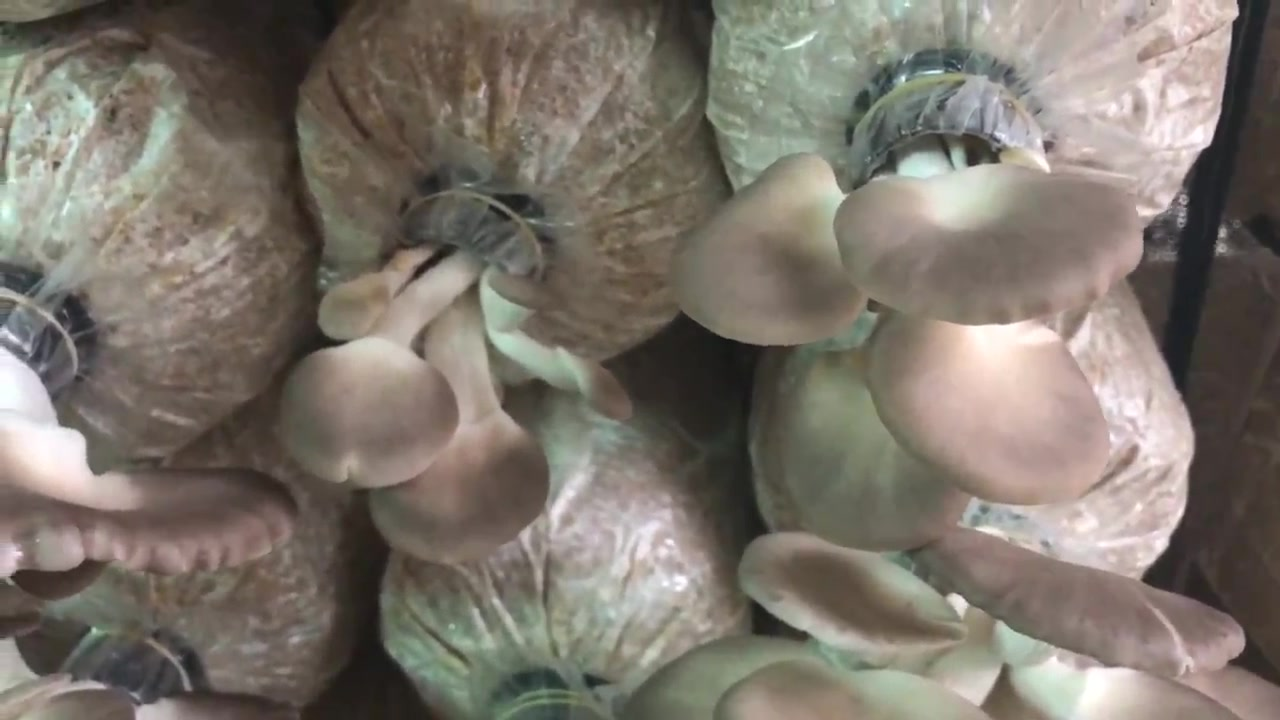nam: (668, 77, 1145, 538), (281, 174, 636, 556), (617, 527, 1275, 720), (1, 474, 284, 565)
